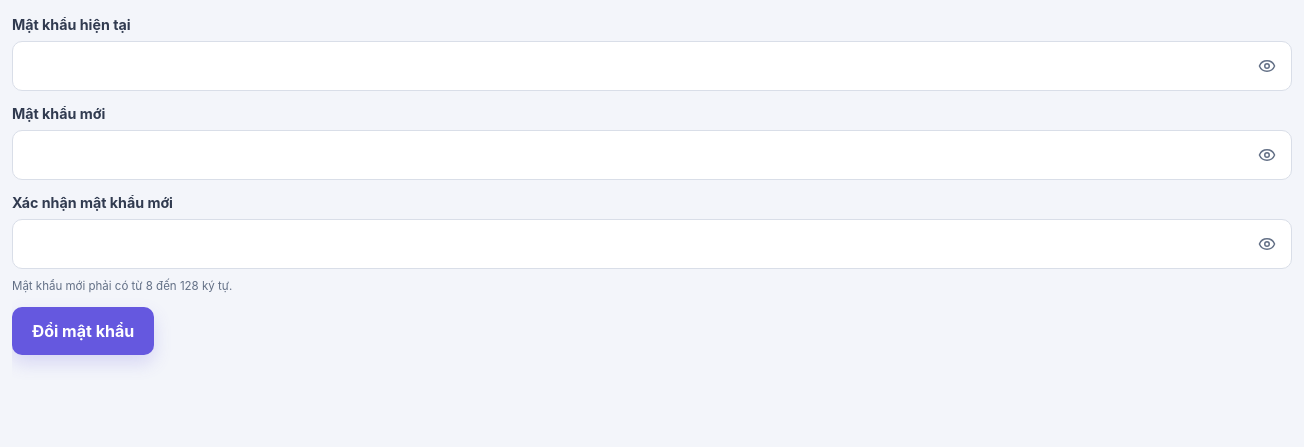
Test: ChangePasswordForm › validates that the new password confirmation matches
The width and height of the screenshot is (1304, 447).
Type "old-pass-123" into the password field labelled "Mật khẩu hiện tại" at (652, 66), box [12,41,1292,91]
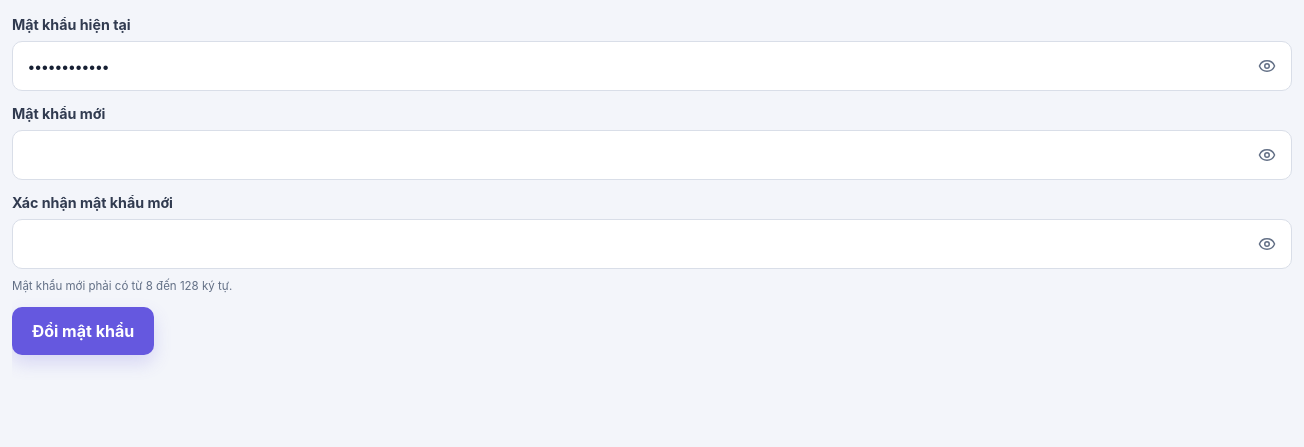
Type "new-pass-123" into the password field labelled "Mật khẩu mới" at (652, 155), box [12,130,1292,180]
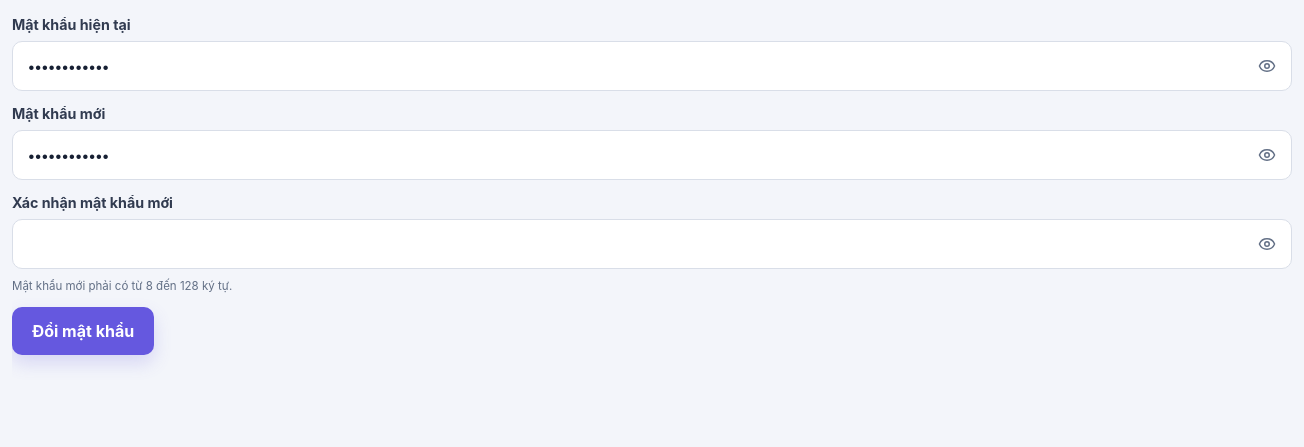
Type "different-pass-123" into the password field labelled "Xác nhận mật khẩu mới" at (652, 244), box [12,219,1292,269]
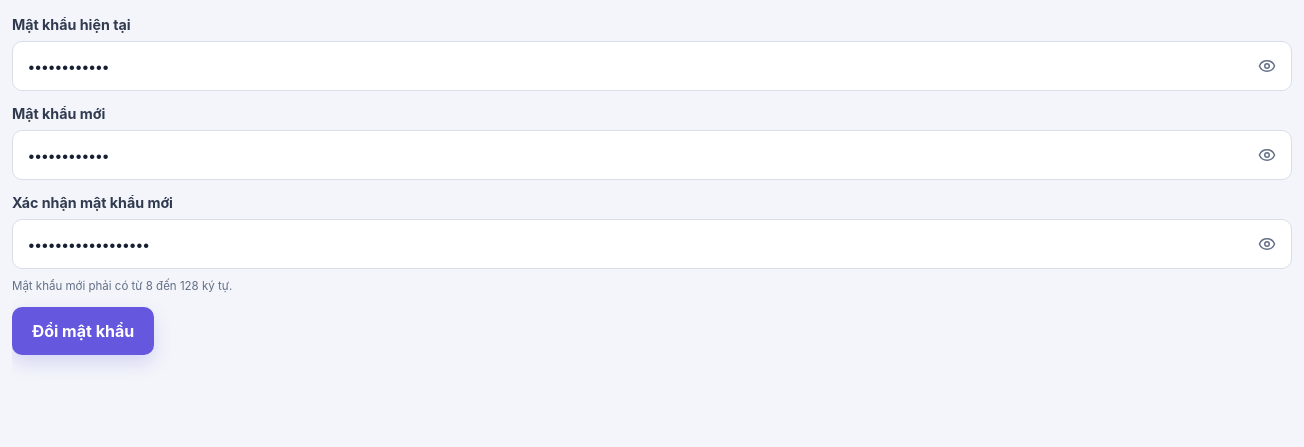
Click the button "Đổi mật khẩu" at (83, 331), box [12,307,154,355]
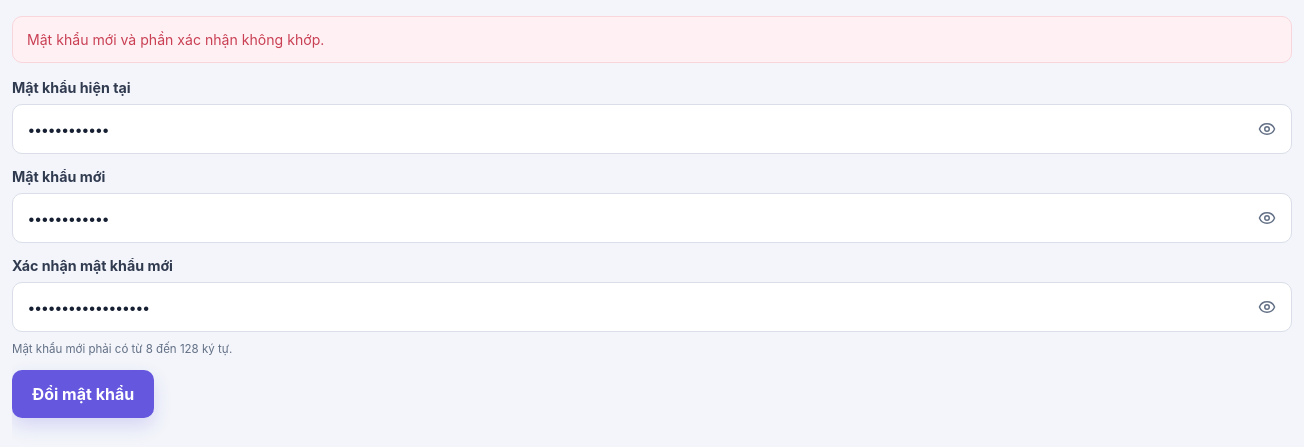
Check: the message reads "Mật khẩu mới và phần xác nhận không khớp.", box [27,31,324,48]
